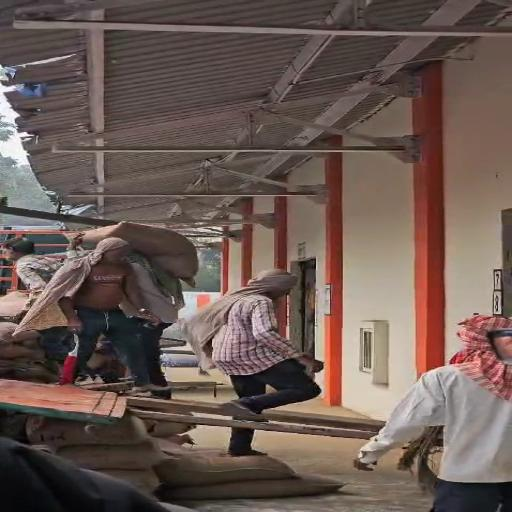bag: (61, 220, 218, 286)
